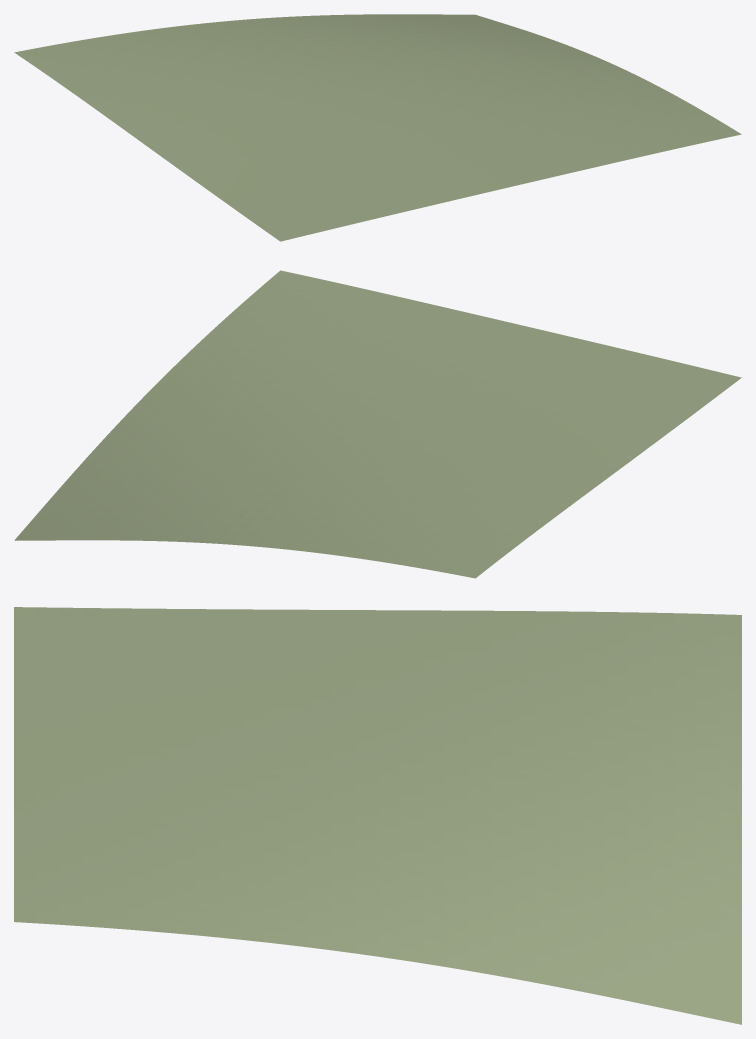
The model's file is expanse-10-13.glb.
3 renders of one model, top to bottom at view 1: azimuth 30°, elevation 25°; view 2: azimuth 150°, elevation 25°; view 3: azimuth 270°, elevation 25°, orthographic. The views are drawn at different scales.
Visible parts, largest first — view 1: expanse-10-13; view 2: expanse-10-13; view 3: expanse-10-13.
Part boxes in pixels (x1,y1,x2,y2): expanse-10-13: [14, 14, 741, 241]; expanse-10-13: [14, 270, 741, 578]; expanse-10-13: [14, 607, 741, 1024].
Size of the model in its own units: 256 by 42.78 by 256.
